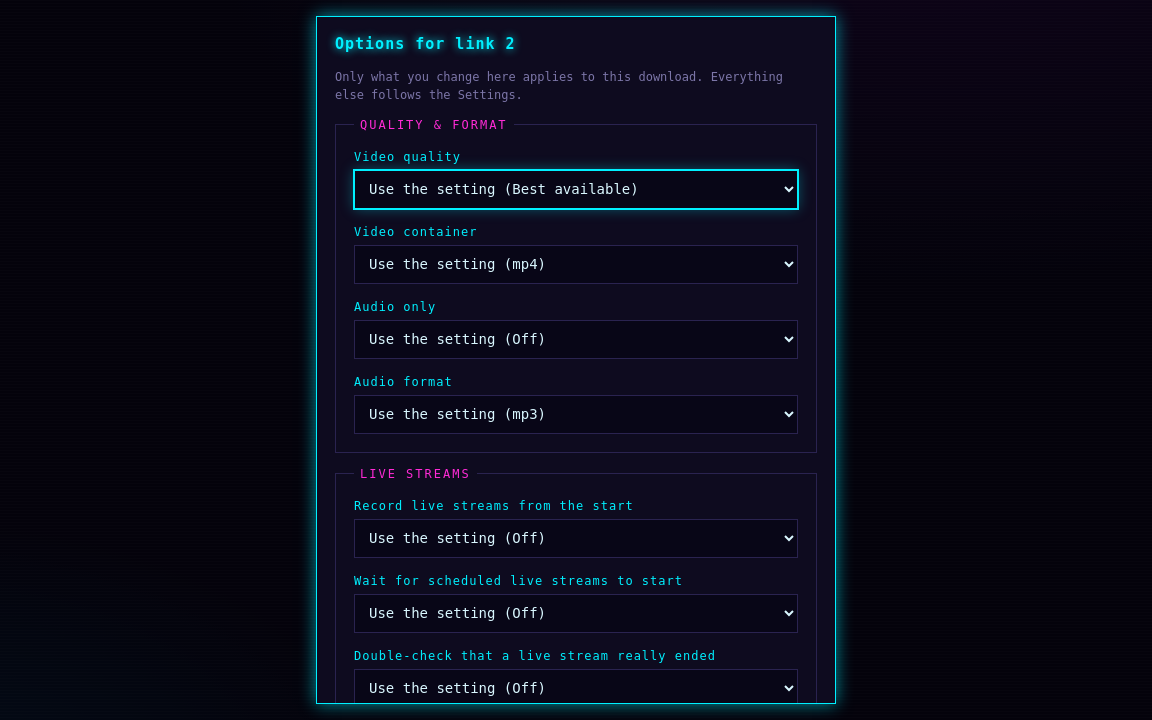
Test: DownloadOptionsDialog seconds of the end check › is disabled while the check is off in the settings, and enabled when this download turns it on
The width and height of the screenshot is (1152, 720).
Select "On" in the dropdown labelled "Double-check that a live stream really ended" at (576, 688), box [354, 668, 798, 708]
(page scrolled)
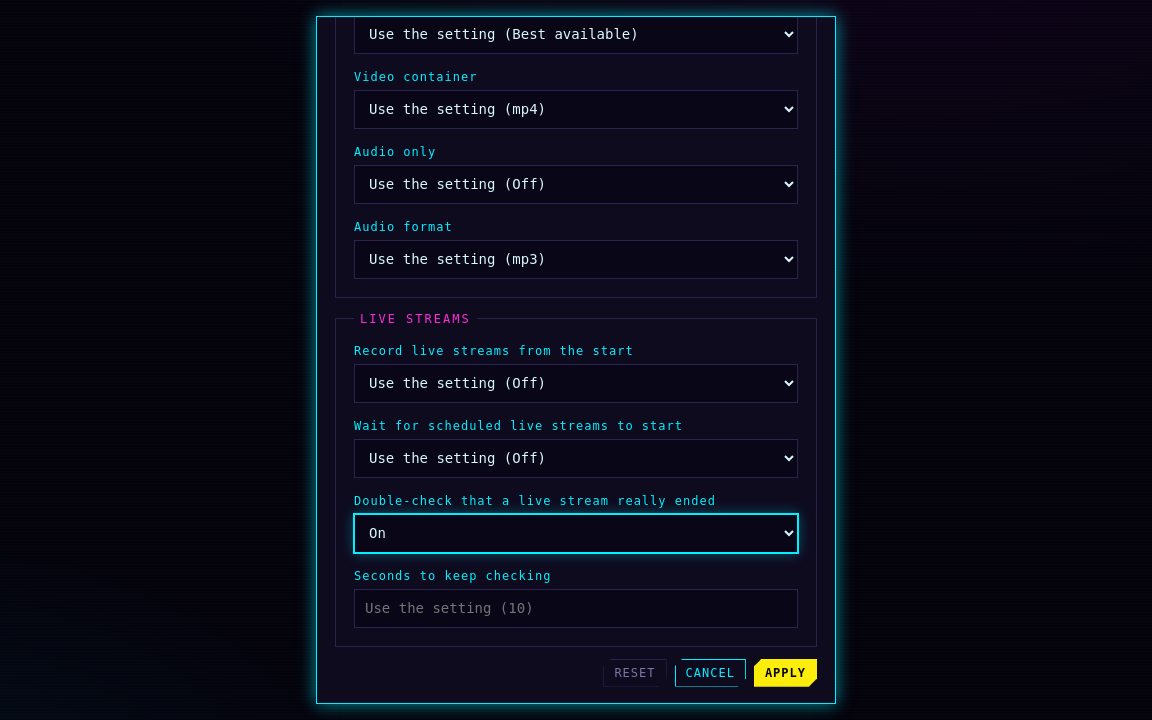
Now the number field labelled "Seconds to keep checking" is enabled, box [354, 588, 798, 628]
